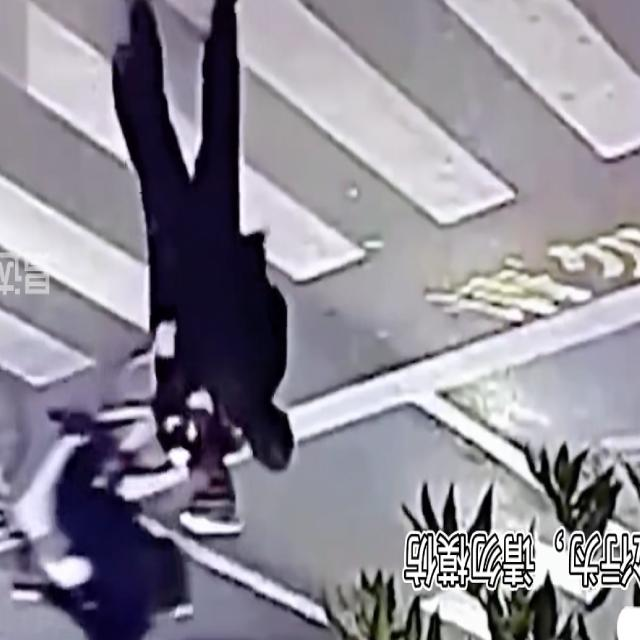fight: (126, 281, 307, 551)
